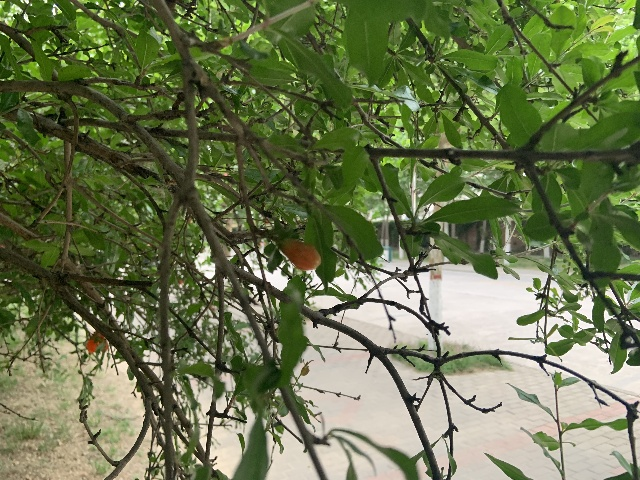bud: (280, 239, 320, 270)
flower: (86, 330, 109, 353)
